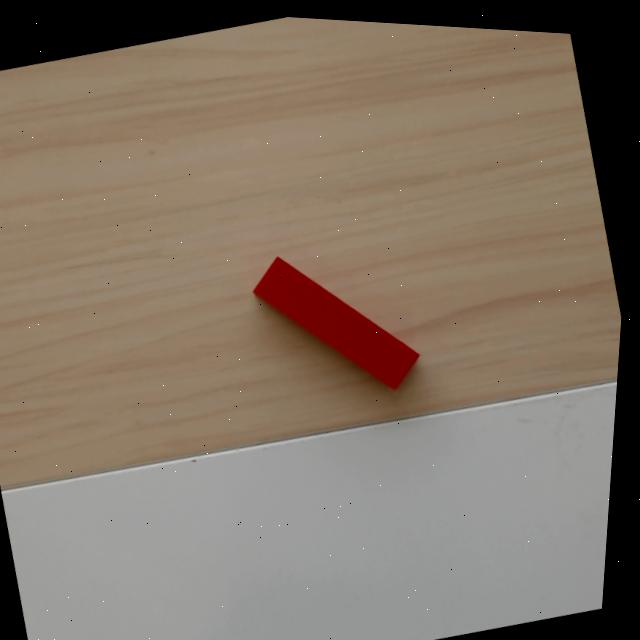Balok-Merah-1002525: (250, 255, 419, 390)
